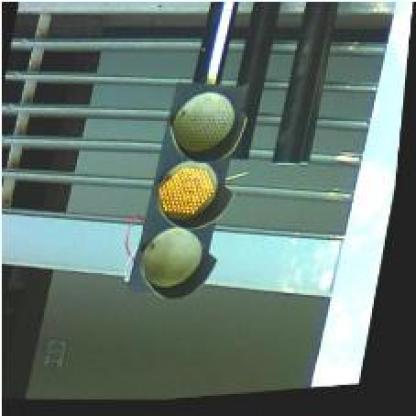yellow: (129, 82, 252, 307)
